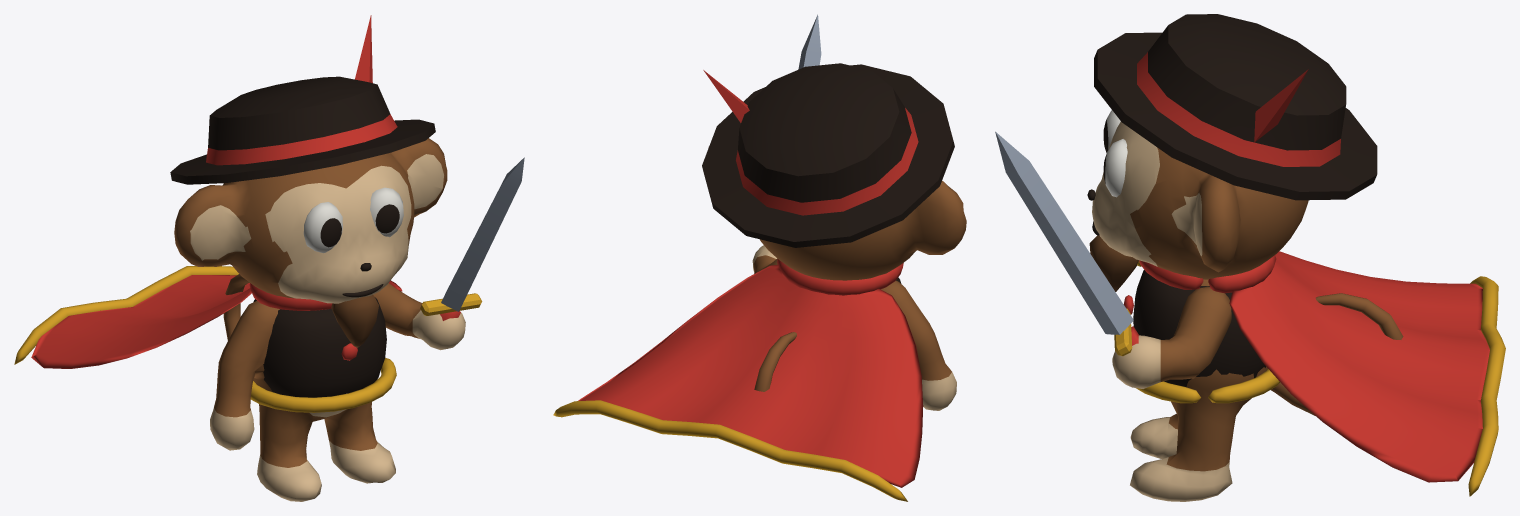
The picture shows the model from 3 angles, left to right: view 1: azimuth 30°, elevation 25°; view 2: azimuth 150°, elevation 25°; view 3: azimuth 270°, elevation 25°; orthographic projection. The views are drawn at different scales.
Parts seen in each view (by area): view 1: dan_2_cabeca, dan_0_corpo, dan_3_braco, dan_1_cauda; view 2: dan_0_corpo, dan_2_cabeca, dan_3_braco, dan_1_cauda; view 3: dan_0_corpo, dan_2_cabeca, dan_3_braco, dan_1_cauda.
Part boxes in pixels (x1,y1,x2,y2): dan_2_cabeca: (170, 15, 447, 347); dan_0_corpo: (14, 266, 402, 501); dan_3_braco: (373, 157, 524, 350); dan_1_cauda: (223, 274, 249, 340); dan_0_corpo: (553, 259, 956, 501); dan_2_cabeca: (702, 63, 966, 280); dan_3_braco: (752, 14, 821, 273); dan_1_cauda: (754, 332, 796, 391); dan_0_corpo: (1123, 251, 1505, 501); dan_2_cabeca: (1087, 14, 1377, 291); dan_3_braco: (995, 131, 1231, 388); dan_1_cauda: (1271, 293, 1403, 415).
Bounding box in the file's own units: 1.09 × 1.13 × 1.13.
